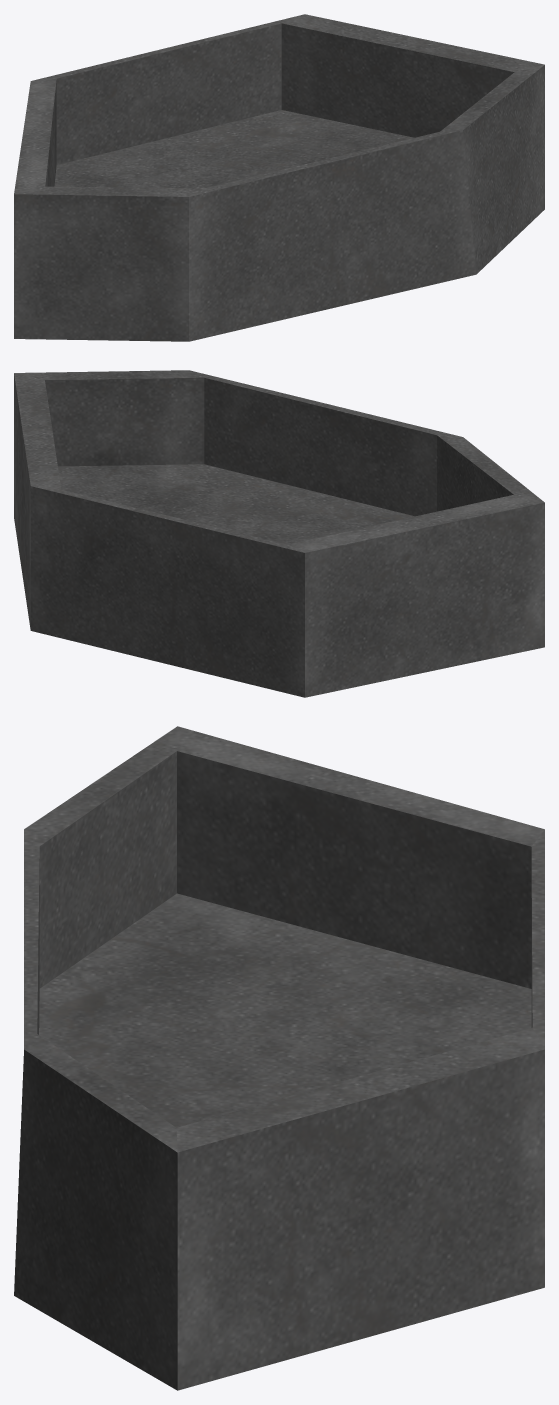
The model's file is sacofago_vampiro_UVM.fbx.
3 renders of one model, top to bottom at view 1: azimuth 30°, elevation 25°; view 2: azimuth 150°, elevation 25°; view 3: azimuth 270°, elevation 25°, orthographic. The views are drawn at different scales.
Visible parts, largest first — view 1: sacofago_vampiro; view 2: sacofago_vampiro; view 3: sacofago_vampiro.
Boxes of the visible parts, x1,y1,x2,y2 form: sacofago_vampiro: (14,14,544,341); sacofago_vampiro: (14,370,544,697); sacofago_vampiro: (14,726,544,1390).
Size of the model in its own units: 194 by 50.5 by 102.
